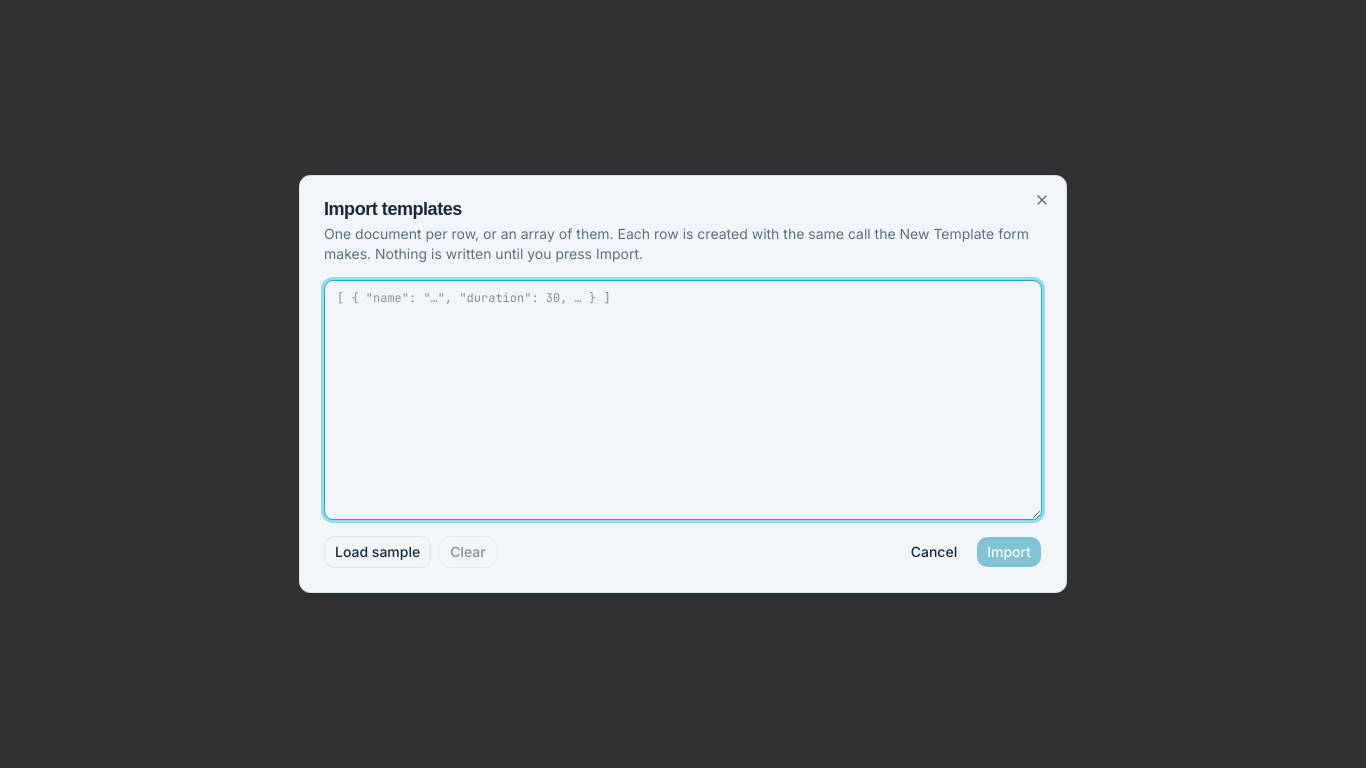
Scenario: ImportTemplatesModal › imports as drafts for an instructor, who cannot publish
The image size is (1366, 768).
Click the button "Load sample" at (378, 552), box [324,536,431,568]
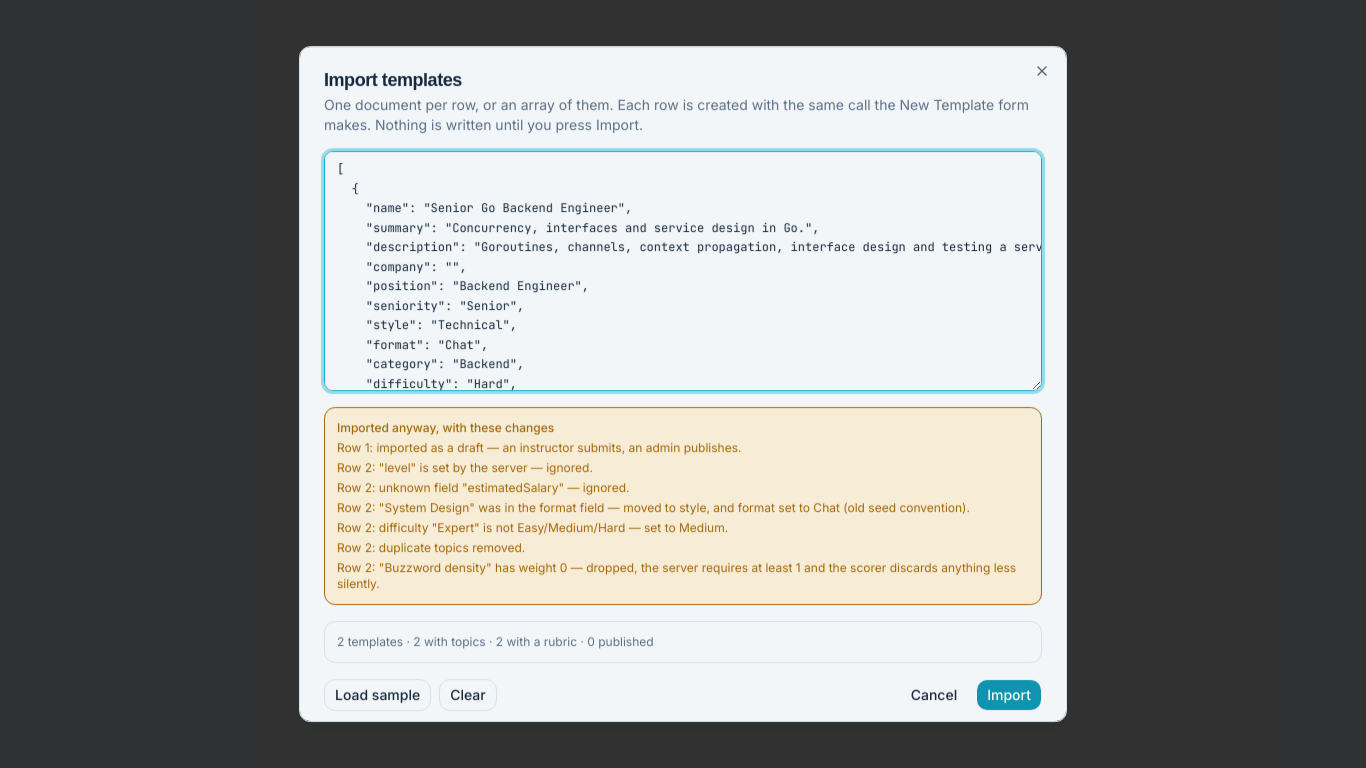
Now the text "imported as a draft" is shown, box [337,440,742,455]
